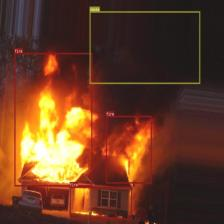fire: (14, 53, 92, 186), (106, 116, 152, 183), (70, 186, 132, 220)
smoke: (89, 11, 200, 84)
